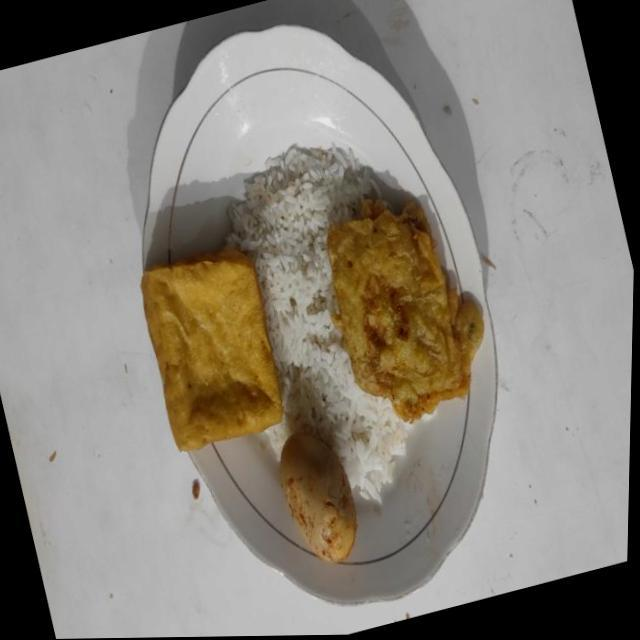nasi_putih: (226, 143, 406, 503)
tahu_goreng: (140, 247, 282, 450)
